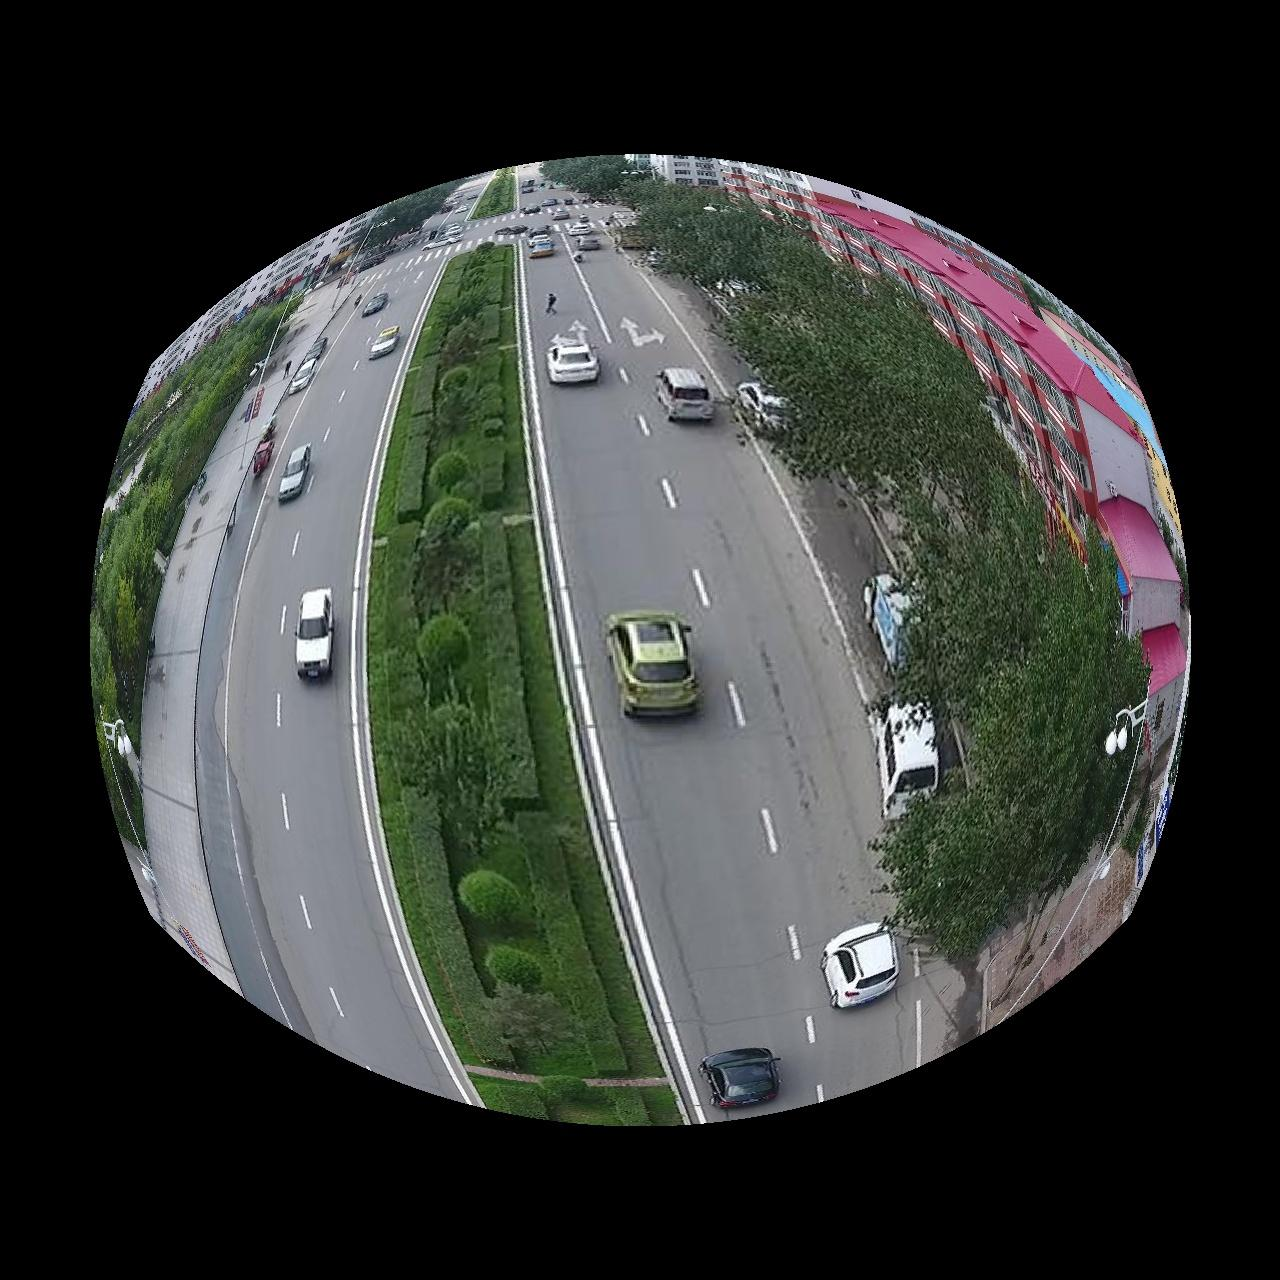cars: (605, 612, 701, 716), (879, 704, 941, 821), (822, 925, 900, 1010), (701, 1050, 779, 1110), (295, 588, 333, 678), (658, 368, 715, 421), (546, 335, 600, 383), (277, 443, 311, 503), (287, 354, 316, 394), (368, 325, 401, 359), (361, 291, 389, 316)
trees: (549, 157, 1153, 960), (368, 241, 681, 1128), (89, 294, 300, 845)
